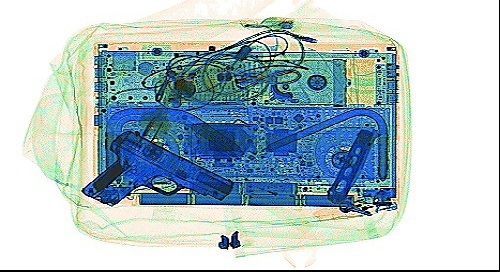knife: (324, 127, 383, 204)
lighter: (312, 189, 374, 222), (330, 197, 398, 221), (352, 157, 373, 203)
